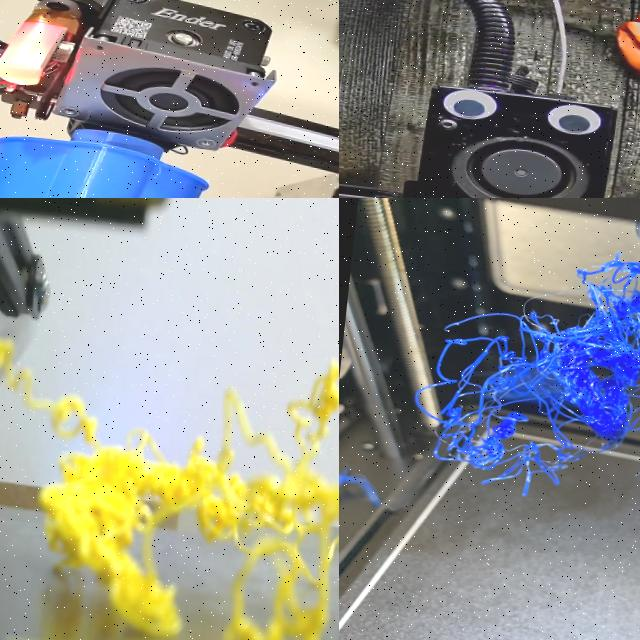spaghetti: (0, 337, 339, 640), (432, 258, 640, 496), (339, 475, 385, 506)
